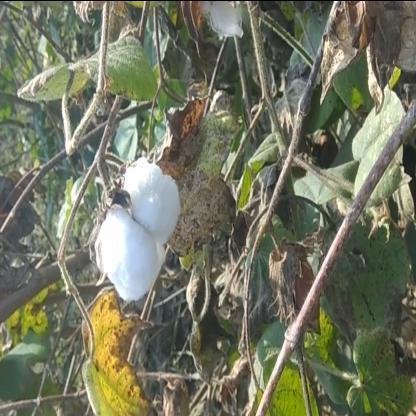cotton_ready: (96, 160, 174, 293)
